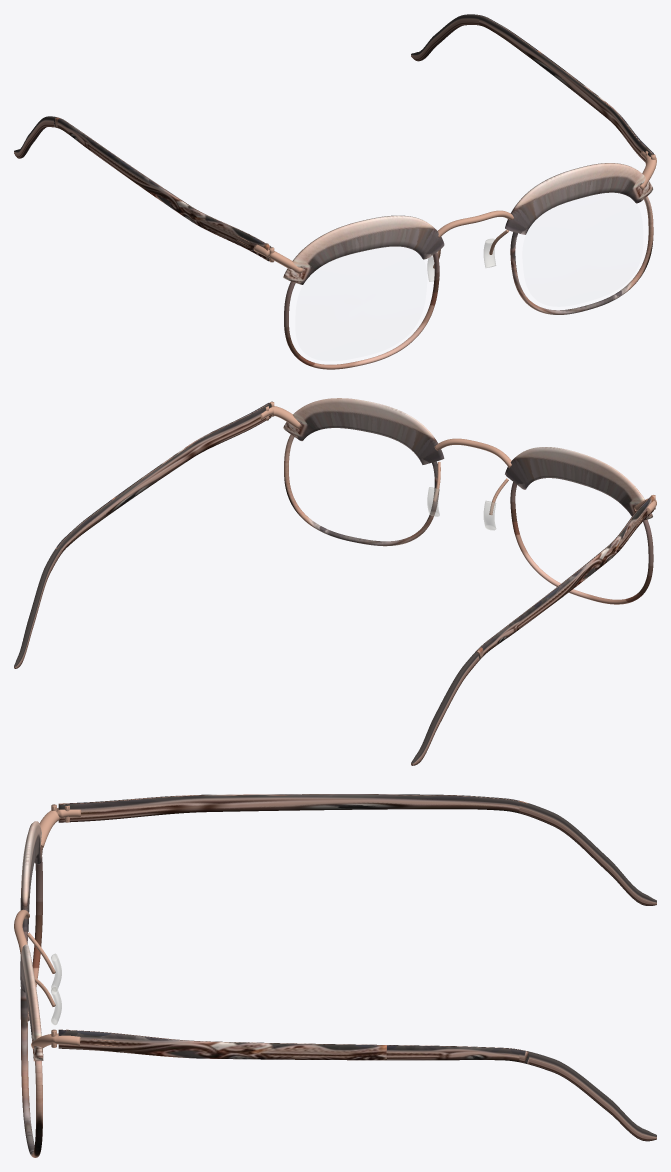
The model's file is prod-4.glb.
3 views of the same model, one above another, from view 1: azimuth 30°, elevation 25°; view 2: azimuth 150°, elevation 25°; view 3: azimuth 270°, elevation 25° (orthographic). The views are drawn at different scales.
Parts seen in each view (by area): view 1: Broad upper metal-brow brow -1, Broad upper metal-brow brow 1, Fitted temple exterior -1, Fitted temple exterior 1, Fine metal full rim -1, Fine metal full rim 1, Saddle nose bridge; view 2: Broad upper metal-brow brow 1, Broad upper metal-brow brow -1, Fitted temple exterior 1, Fitted temple exterior -1, Fine metal full rim -1, Fine metal full rim 1, Saddle nose bridge; view 3: Fitted temple exterior 1, Fitted temple exterior -1, Fine metal full rim 1, Broad upper metal-brow brow 1, Broad upper metal-brow brow -1, Fine metal full rim -1, Reference hinge connection -1.
Boxes of the visible parts, x1,y1,x2,y2 form: Broad upper metal-brow brow -1: (283, 215, 444, 284); Broad upper metal-brow brow 1: (505, 163, 653, 234); Fitted temple exterior -1: (14, 116, 270, 261); Fitted temple exterior 1: (411, 14, 653, 162); Fine metal full rim -1: (284, 252, 439, 369); Fine metal full rim 1: (510, 196, 653, 314); Saddle nose bridge: (438, 210, 513, 237); Broad upper metal-brow brow 1: (283, 398, 444, 464); Broad upper metal-brow brow -1: (505, 447, 652, 520); Fitted temple exterior 1: (14, 403, 271, 668); Fitted temple exterior -1: (411, 496, 654, 765); Fine metal full rim -1: (510, 482, 653, 604); Fine metal full rim 1: (284, 434, 439, 546); Saddle nose bridge: (434, 438, 511, 467); Fitted temple exterior 1: (58, 1029, 656, 1141); Fitted temple exterior -1: (58, 794, 656, 905); Fine metal full rim 1: (20, 988, 42, 1157); Broad upper metal-brow brow 1: (20, 944, 43, 1061); Broad upper metal-brow brow -1: (20, 821, 42, 931); Fine metal full rim -1: (24, 857, 42, 1021); Reference hinge connection -1: (39, 808, 81, 848).
Bounding box in the file's own units: 0.1373 × 0.0438 × 0.1472.
Materials: 7 (3 with a texture image).
